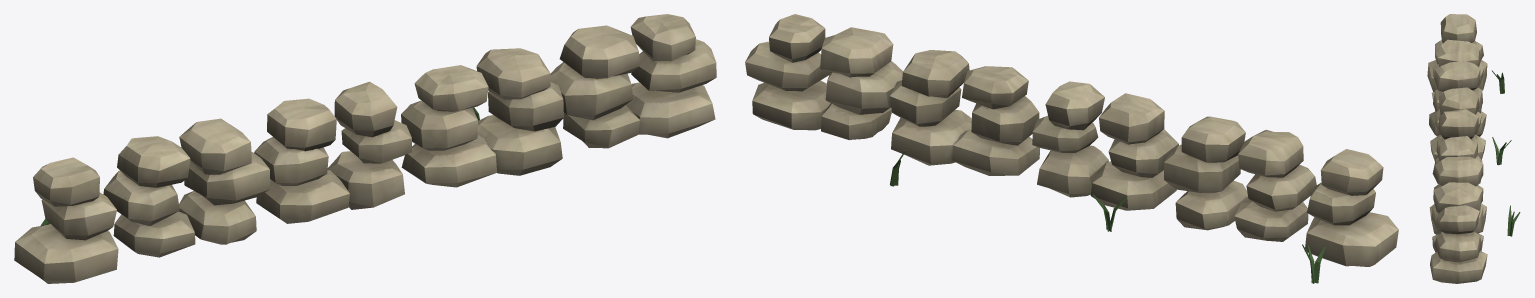
Rendered from wall_run.glb.
The picture shows the model from 3 angles, left to right: view 1: azimuth 30°, elevation 25°; view 2: azimuth 150°, elevation 25°; view 3: azimuth 270°, elevation 25°; orthographic projection. The views are drawn at different scales.
Visible parts, largest first — view 1: WallRun; view 2: WallRun, v_wall_run_f_grass_deep; view 3: WallRun, v_wall_run_f_grass_deep.
Part boxes in pixels (box(x1,y1,x2,y2)): WallRun: box(14, 14, 716, 283); WallRun: box(745, 14, 1398, 266); v_wall_run_f_grass_deep: box(890, 150, 1325, 283); WallRun: box(1427, 14, 1487, 283); v_wall_run_f_grass_deep: box(1492, 70, 1520, 236).
Size of the model in its own units: 4.59 by 0.7324 by 0.827.
Materials: 2 (1 with a texture image).
